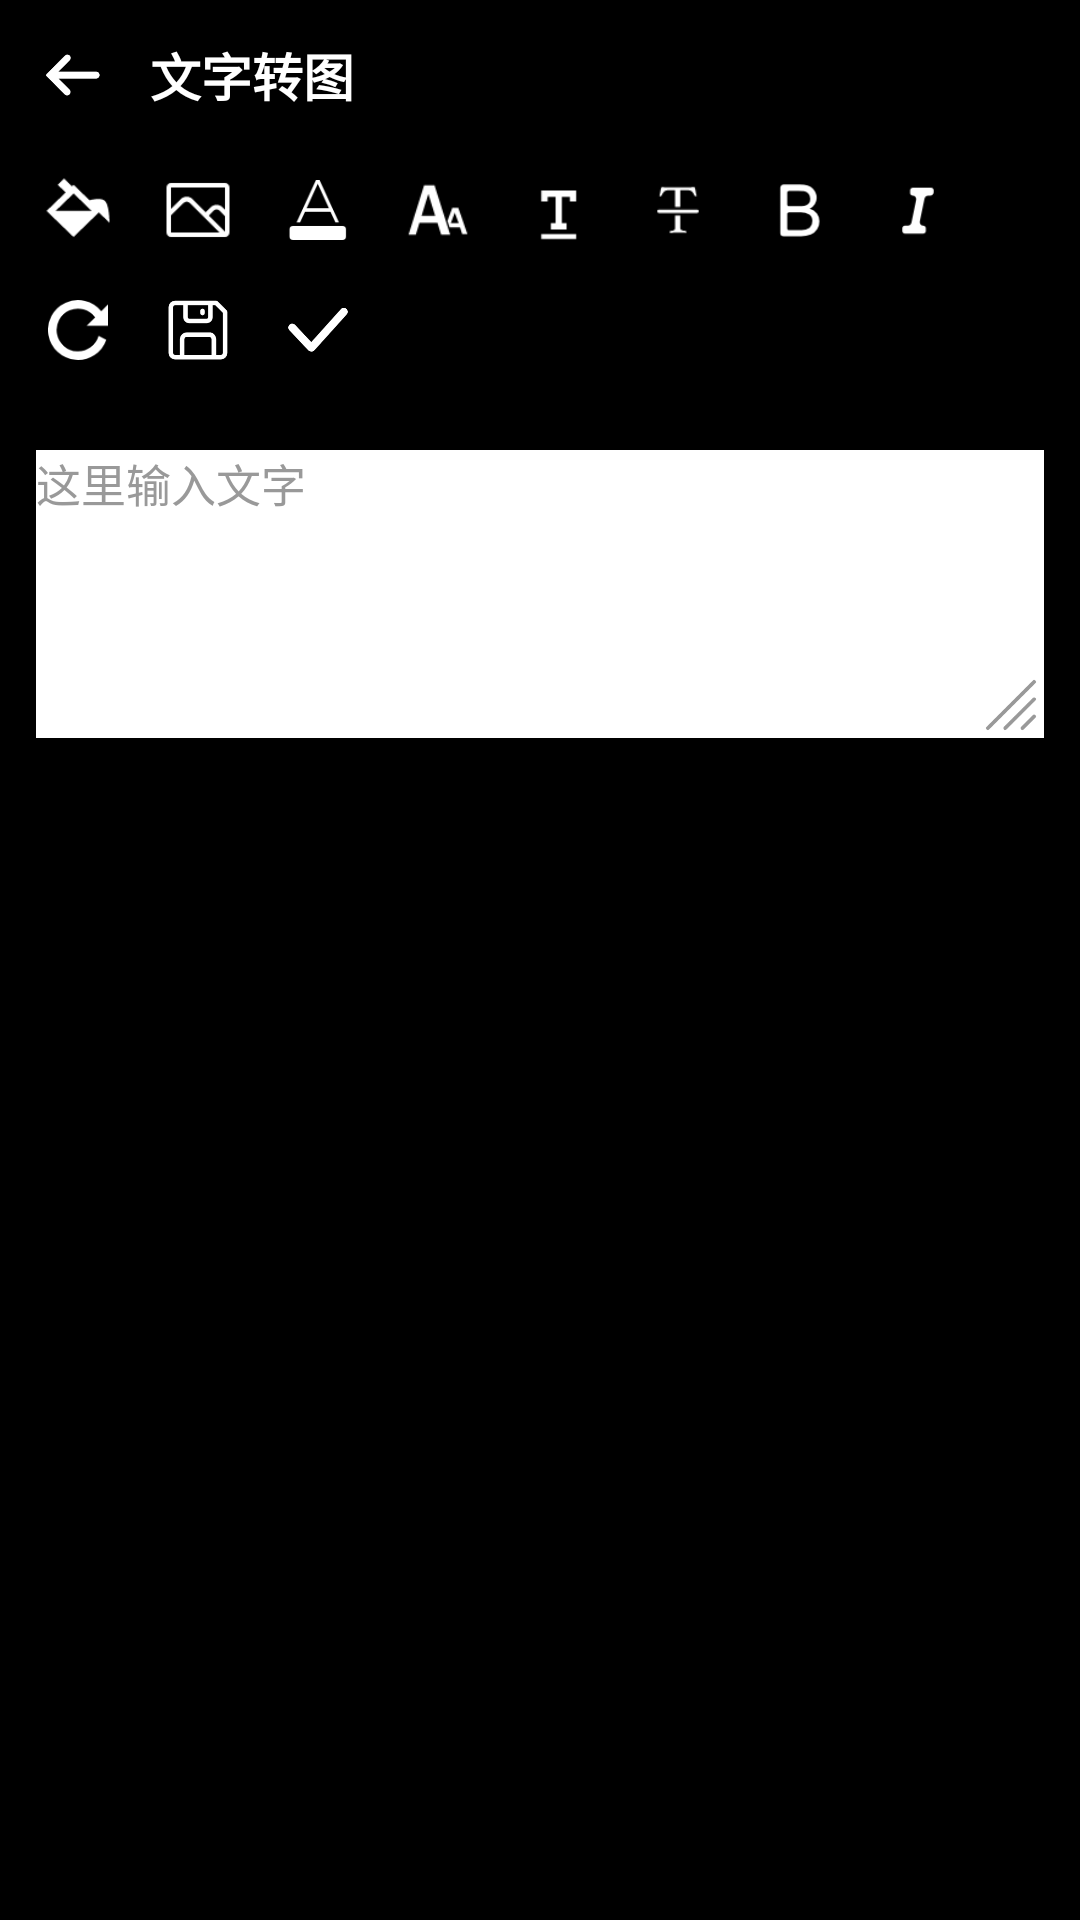

Where icons sit on this 1080w x 1920h app screen, as (x1, y1, x2, y2):
arrow back: (46, 54, 100, 96)
cache: (168, 300, 228, 360)
confirm right: (288, 308, 348, 352)
text to donw line: (540, 190, 577, 240)
text to italic: (902, 187, 934, 235)
text to middle line: (657, 186, 699, 234)
text to reset: (48, 300, 108, 360)
text to size: (408, 184, 468, 236)
